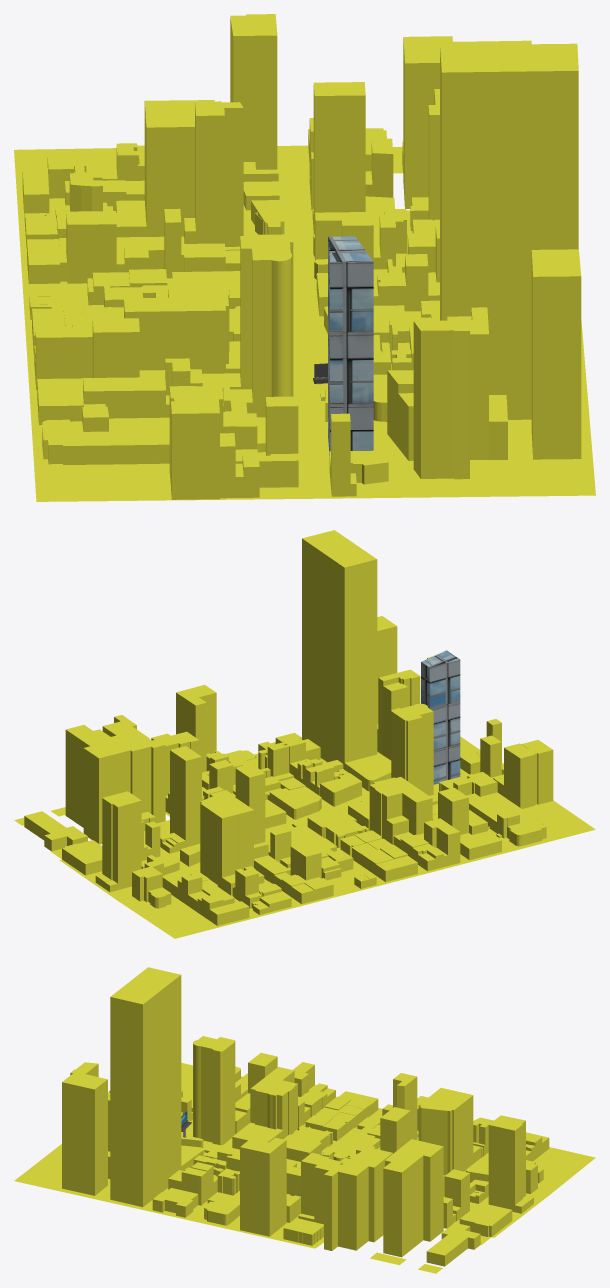
Rendered from nyc.glb.
The picture shows the model from 3 angles, top to bottom: view 1: azimuth 30°, elevation 25°; view 2: azimuth 150°, elevation 25°; view 3: azimuth 270°, elevation 25°; orthographic projection. The views are drawn at different scales.
Visible parts, largest first — view 1: Areas, Areas.001; view 2: Areas, Areas.001; view 3: Areas.
Part boxes in pixels (x1,y1,x2,y2): Areas: (14,14,595,501); Areas.001: (328,236,373,455); Areas: (14,530,595,938); Areas.001: (421,650,460,784); Areas: (14,967,595,1273).
Size of the model in its own units: 828 by 366 by 952.
Materials: 5 (2 with a texture image).
